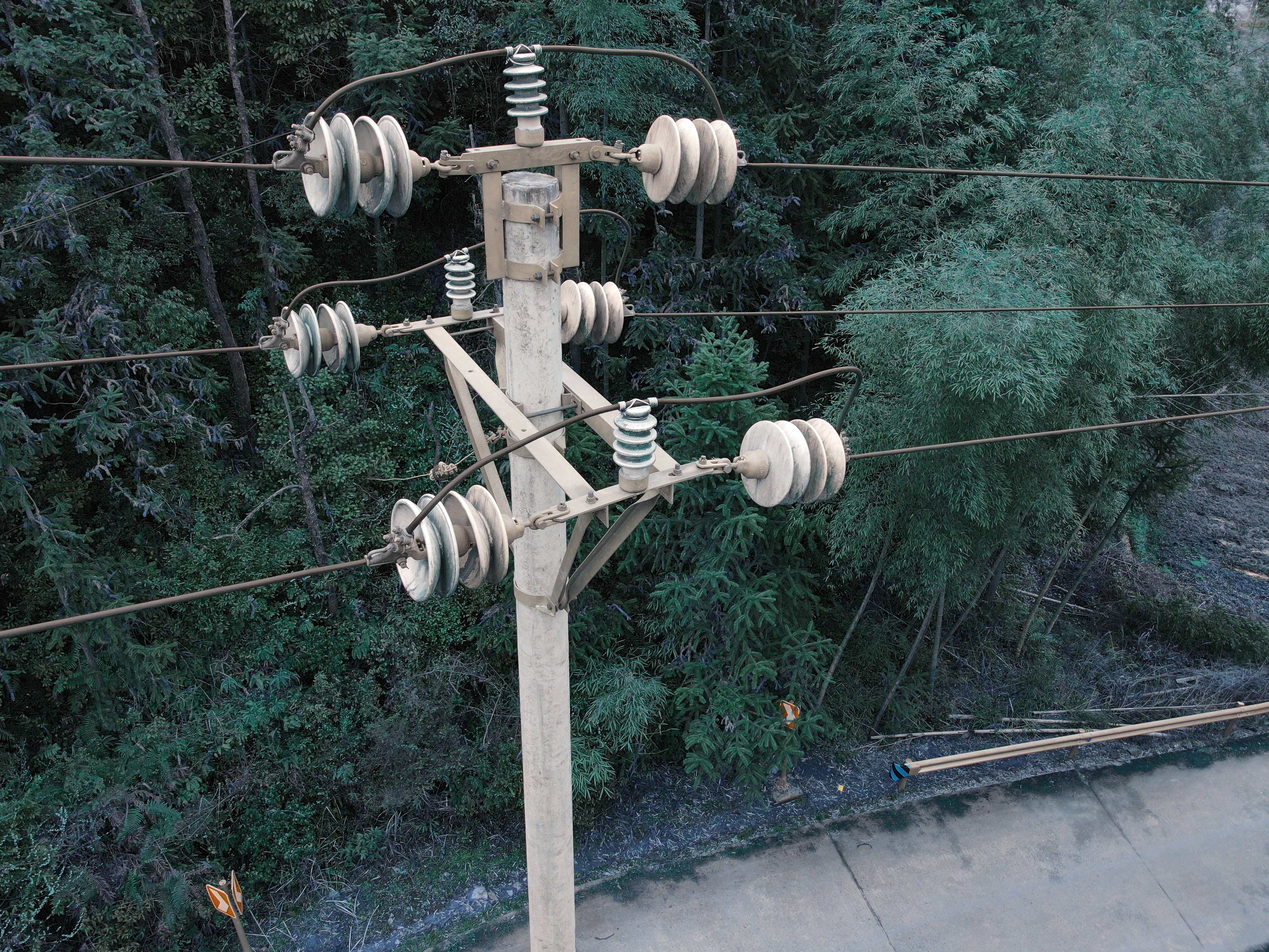severe_soiling_no_discharge_whole: (386, 483, 524, 602), (297, 109, 433, 219), (734, 413, 847, 508), (632, 113, 740, 205), (282, 298, 379, 375), (502, 47, 552, 148), (560, 278, 627, 345), (609, 401, 658, 491), (445, 252, 477, 320)
